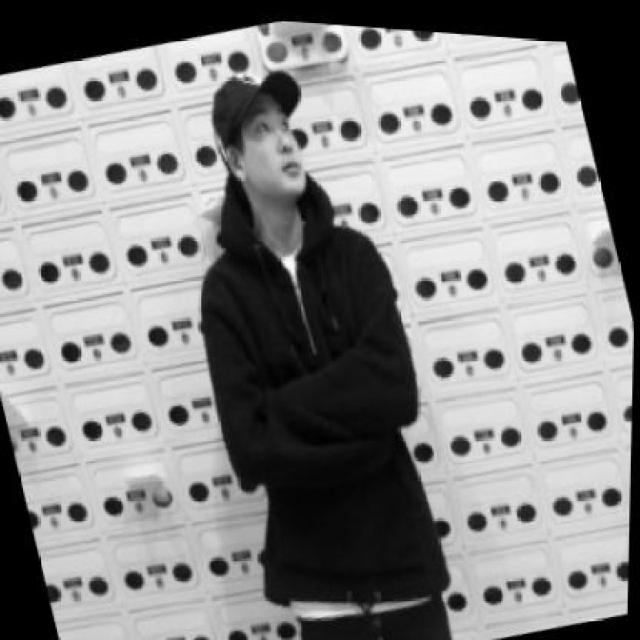hat: (196, 47, 319, 171)
